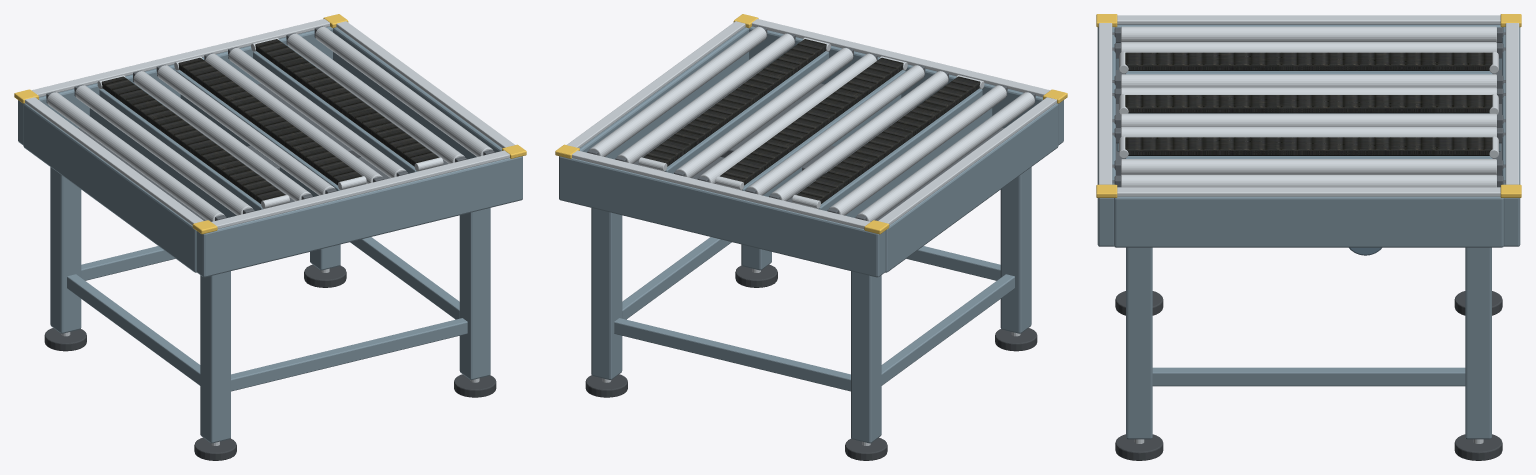
The model's file is turn_visual.glb.
3 renders of one model, left to right at view 1: azimuth 30°, elevation 25°; view 2: azimuth 150°, elevation 25°; view 3: azimuth 270°, elevation 25°, orthographic. The views are drawn at different scales.
Visible parts, largest first — view 1: SideChannelZ_1, SideChannelX_-1, SupportLeg_3, SupportLeg_1, SupportLeg_0, PopUpBelt_0, PopUpBelt_1, PopUpBelt_2, LegBraceZ_1, Roller_7, Roller_2, Roller_3 (+25 smaller); view 2: SideChannelZ_-1, SideChannelX_-1, SupportLeg_2, SupportLeg_0, SupportLeg_1, PopUpBelt_0, PopUpBelt_1, PopUpBelt_2, LegBraceZ_-1, Roller_7, Roller_2, Roller_3 (+25 smaller); view 3: SideChannelX_1, PopUpBelt_0, PopUpBelt_2, PopUpBelt_1, LegBraceX_1, Roller_0, Roller_6, Roller_2, Roller_4, Roller_7, SupportLeg_2, SupportLeg_3 (+16 smaller).
Boxes of the visible parts, box(x1,y1,x2,y2) form: SideChannelZ_1: box(196, 156, 522, 277); SideChannelX_-1: box(23, 103, 196, 272); SupportLeg_3: box(459, 208, 490, 379); SupportLeg_1: box(200, 271, 230, 443); SupportLeg_0: box(50, 167, 81, 333); PopUpBelt_0: box(101, 76, 285, 203); PopUpBelt_1: box(178, 57, 361, 185); PopUpBelt_2: box(255, 39, 438, 166); LegBraceZ_1: box(231, 318, 467, 391); Roller_7: box(315, 26, 492, 156); Roller_2: box(133, 71, 311, 201); Roller_3: box(157, 65, 334, 195); SideChannelZ_-1: box(559, 156, 885, 277); SideChannelX_-1: box(885, 103, 1058, 272); SupportLeg_2: box(591, 208, 622, 379); SupportLeg_0: box(851, 271, 881, 443); SupportLeg_1: box(1000, 167, 1031, 333); PopUpBelt_0: box(796, 76, 980, 203); PopUpBelt_1: box(720, 57, 903, 185); PopUpBelt_2: box(643, 39, 826, 166); LegBraceZ_-1: box(614, 318, 850, 391); Roller_7: box(589, 26, 766, 156); Roller_2: box(770, 71, 948, 201); Roller_3: box(747, 65, 924, 195); SideChannelX_1: box(1114, 196, 1503, 247); PopUpBelt_0: box(1125, 52, 1492, 70); PopUpBelt_2: box(1125, 137, 1492, 155); PopUpBelt_1: box(1125, 95, 1492, 113); LegBraceX_1: box(1152, 367, 1465, 386); Roller_0: box(1121, 26, 1496, 42); Roller_6: box(1121, 159, 1496, 174); Roller_2: box(1121, 74, 1496, 87); Roller_4: box(1121, 113, 1496, 127); Roller_7: box(1121, 174, 1496, 187); SupportLeg_2: box(1465, 247, 1491, 439); SupportLeg_3: box(1126, 247, 1152, 439).
Size of the model in its own units: 1.5 by 1.09 by 1.5.
Materials: 7 (1 with a texture image).
